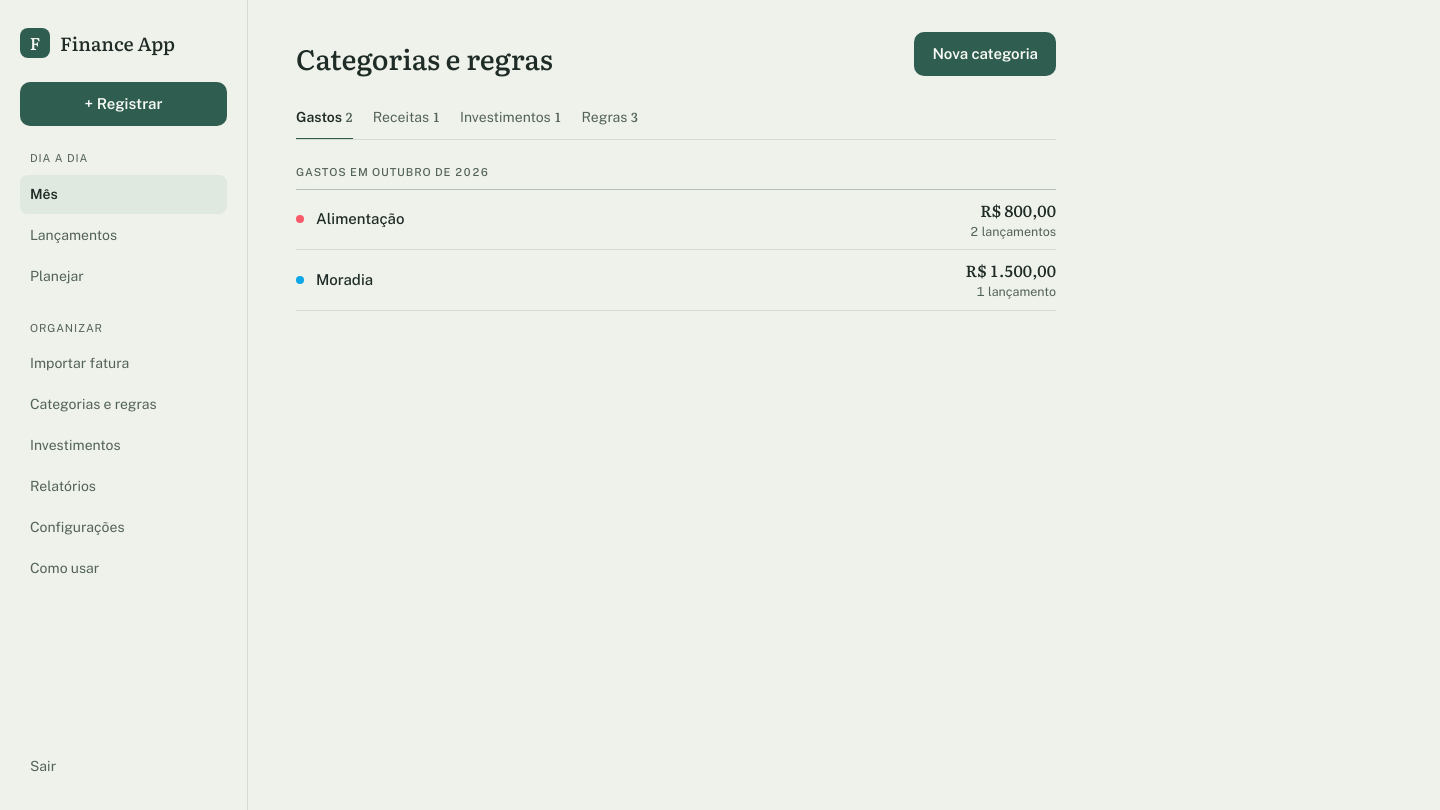
Test case: Página de categorias - Aba de regras de categorização › exclui uma regra após confirmação citando o estabelecimento (DELETE /api/category-rules/:id)
Click the tab "Regras 3". click: x=610, y=118
box: [582, 96, 638, 140]
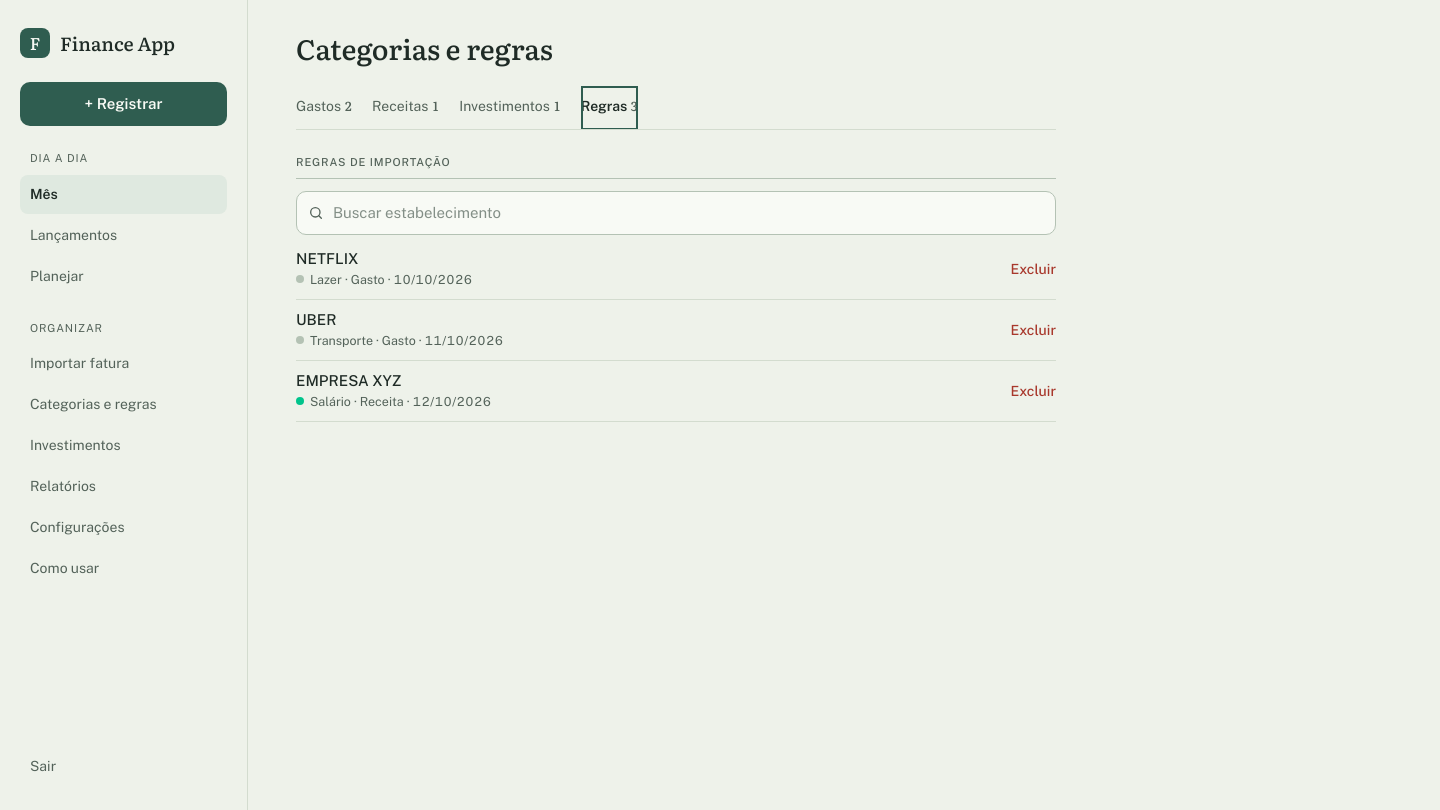
Click the button with aria-label "Excluir regra de NETFLIX". click: x=1033, y=269
box: [998, 247, 1068, 291]
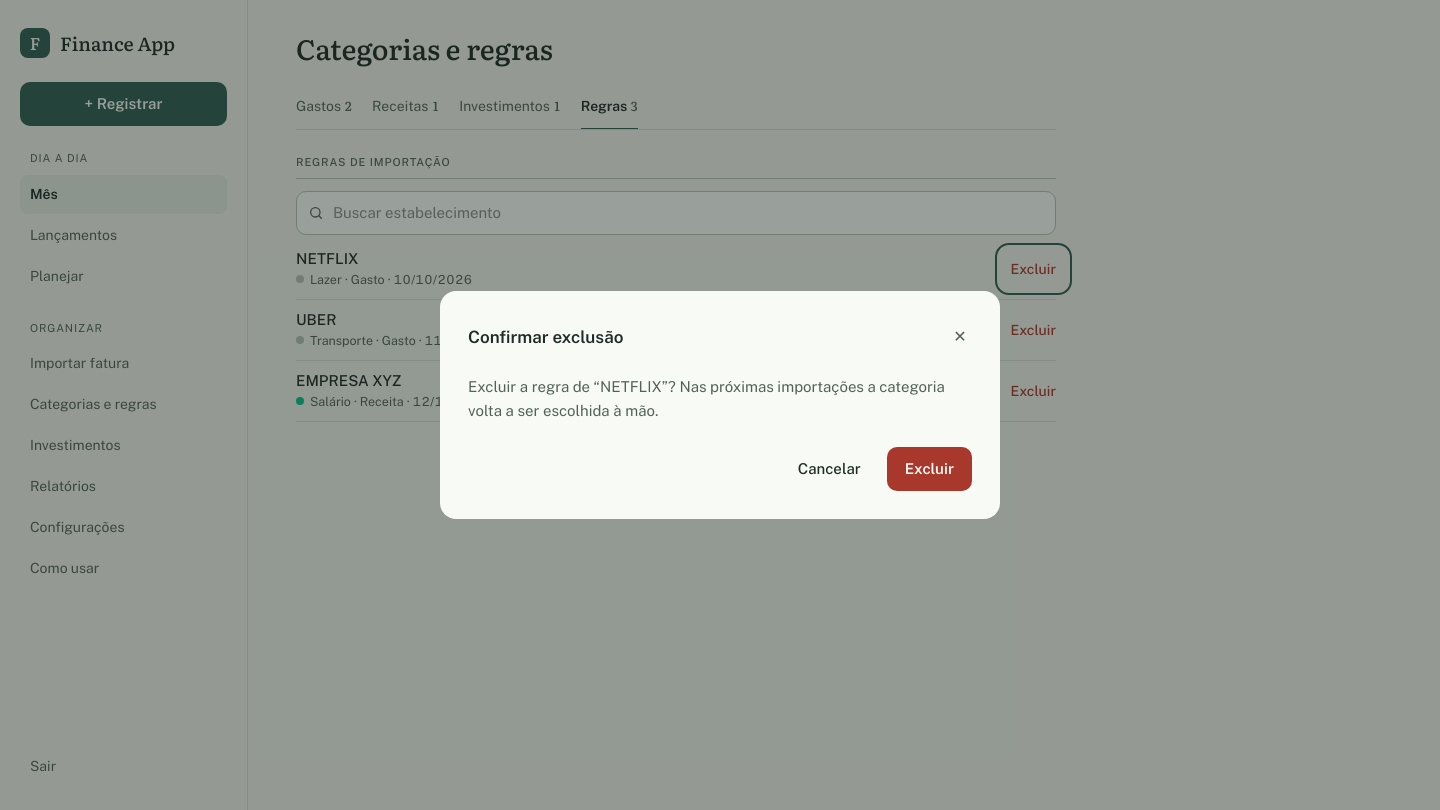
Check: the text "Excluir a regra de “NETFLIX”?" is shown, box [468, 378, 945, 419]
Click the button "Excluir". click: x=929, y=469
box: [887, 447, 972, 491]
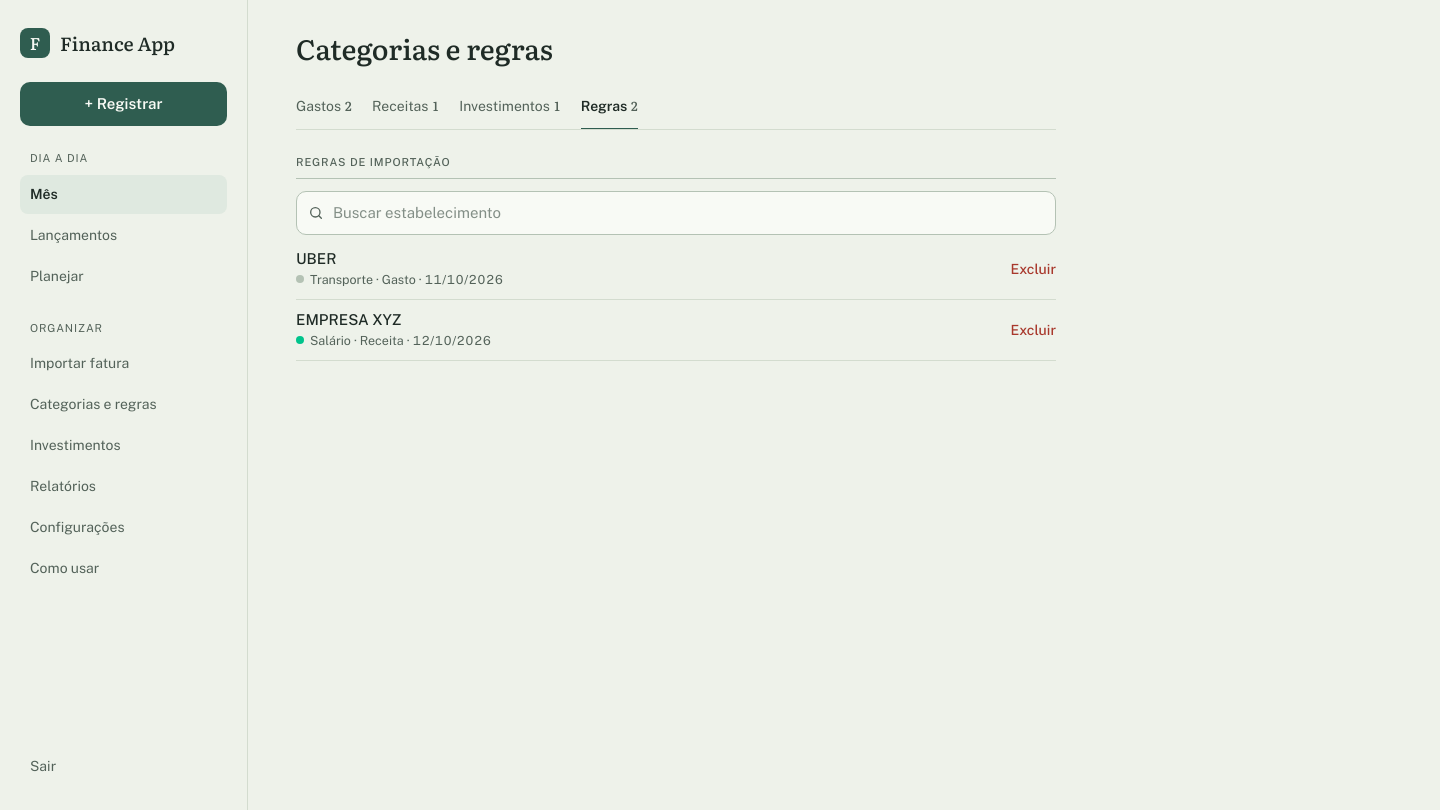
Check: the text "NETFLIX" is not shown
Check: the tab "Regras 2" is shown, box [581, 86, 638, 130]
Check: the number of list items is 2, box [296, 239, 1056, 300]; [296, 300, 1056, 361]
